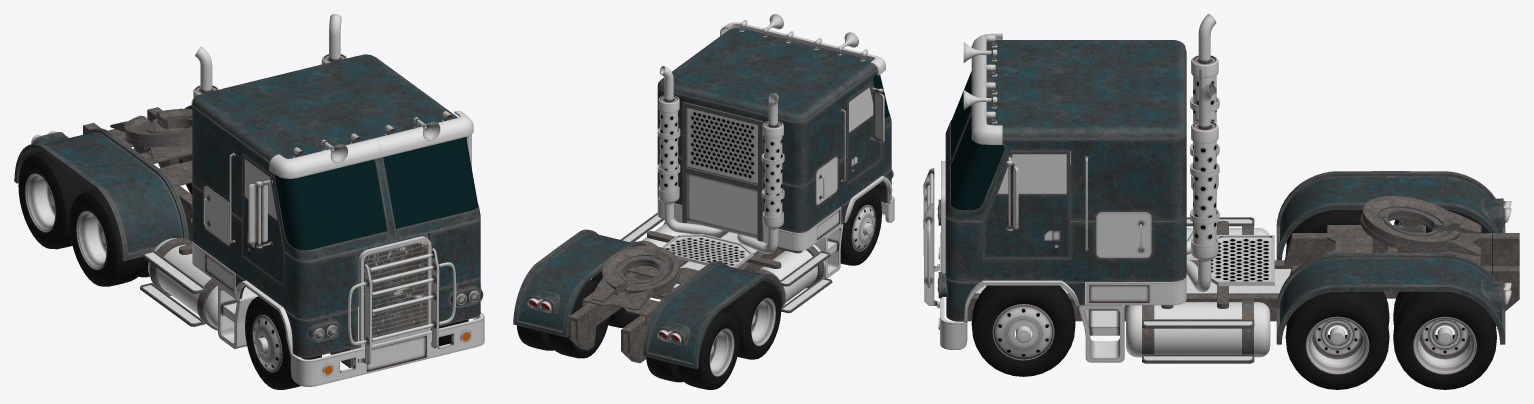
File: truck.glb
3 renders of one model, left to right at view 1: azimuth 30°, elevation 25°; view 2: azimuth 150°, elevation 25°; view 3: azimuth 270°, elevation 25°, orthographic. The views are drawn at different scales.
Visible parts, largest first — view 1: truck_main_body, chrome_pieces, rear_wheel_set_2_R, rear_wheel_set_1_R, front_right_tire; view 2: truck_main_body, chrome_pieces, rear_wheel_set_2_R, rear_wheel_set_1_R, front_right_tire, rear_wheel_set_2_L, rear_wheel_set_1_L; view 3: truck_main_body, chrome_pieces, rear_wheel_set_1_L, rear_wheel_set_2_L, front_left_tire, rear_wheel_set_1_R.
Part boxes in pixels (x1,y1,x2,y2): truck_main_body: [14, 54, 483, 367]; chrome_pieces: [143, 14, 484, 386]; rear_wheel_set_2_R: [18, 152, 92, 249]; rear_wheel_set_1_R: [69, 189, 149, 286]; front_right_tire: [245, 296, 321, 389]; truck_main_body: [513, 27, 893, 368]; chrome_pieces: [623, 14, 894, 310]; rear_wheel_set_2_R: [646, 311, 739, 389]; rear_wheel_set_1_R: [721, 280, 781, 359]; front_right_tire: [840, 189, 881, 265]; rear_wheel_set_2_L: [517, 279, 609, 358]; rear_wheel_set_1_L: [591, 271, 639, 327]; truck_main_body: [938, 40, 1519, 363]; chrome_pieces: [923, 14, 1291, 362]; rear_wheel_set_1_L: [1285, 291, 1389, 389]; rear_wheel_set_2_L: [1393, 291, 1496, 389]; front_left_tire: [971, 285, 1075, 376]; rear_wheel_set_1_R: [1285, 209, 1362, 255].
Size of the model in its own units: 4.75 by 5.27 by 10.02.
3 materials, 3 textured.
